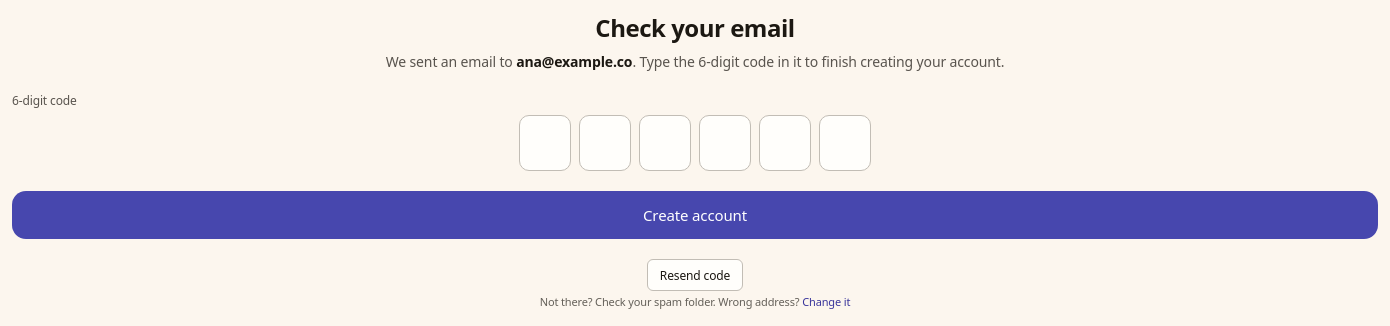
Test: RegisterView › starts the countdown again after a Resend
Step 1. Click the 2nd button named "Resend code" → (695, 275), box [647,259,743,291]
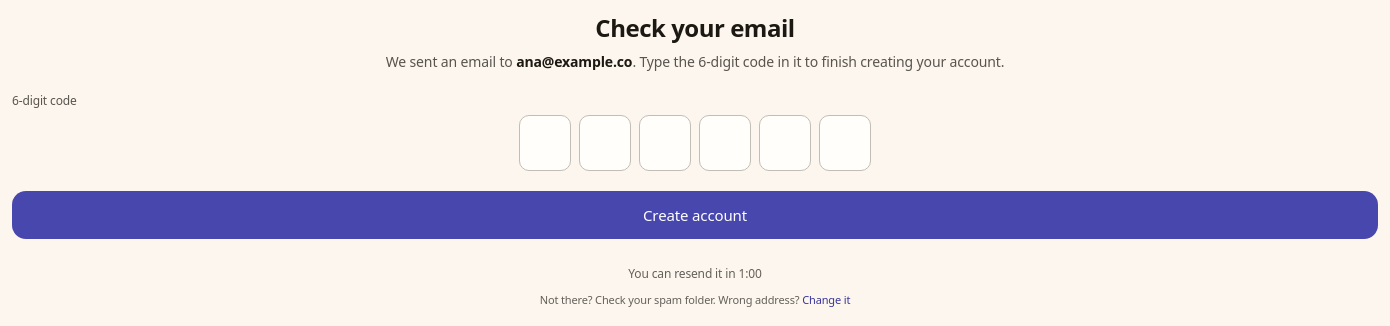
expect the text "You can resend it in 1:00" is shown: met, box [628,265,762,282]
